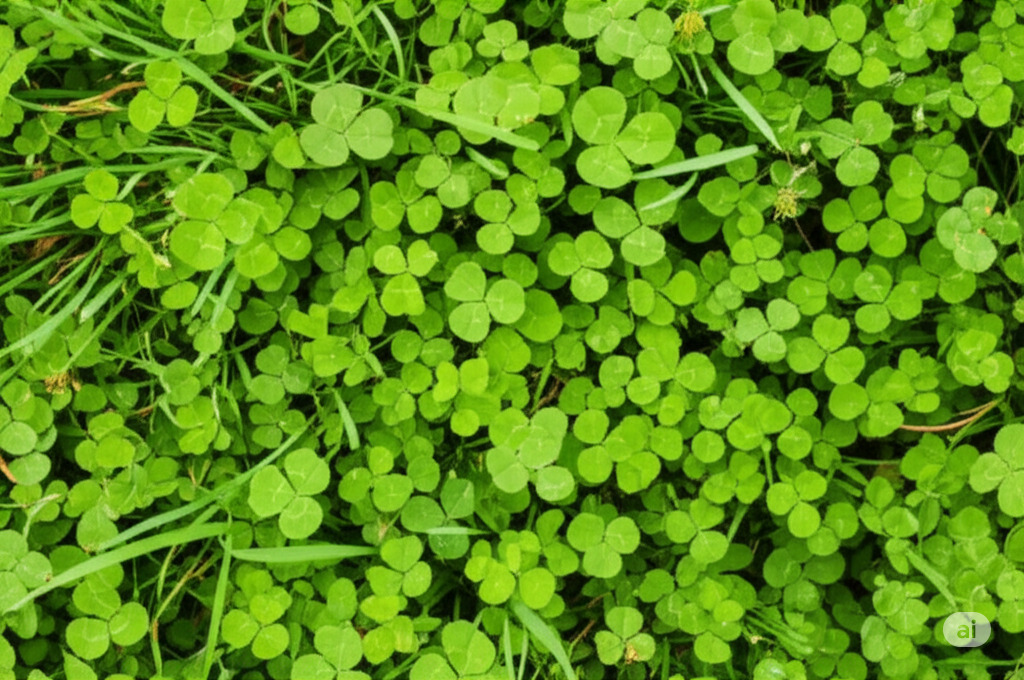3 leaf clover: (163, 170, 258, 274), (437, 251, 526, 345), (246, 444, 331, 542), (61, 571, 151, 660), (564, 503, 638, 577)
